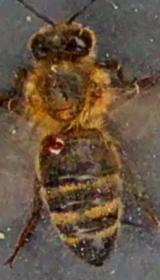varroa_mite: (30, 133, 74, 161)
